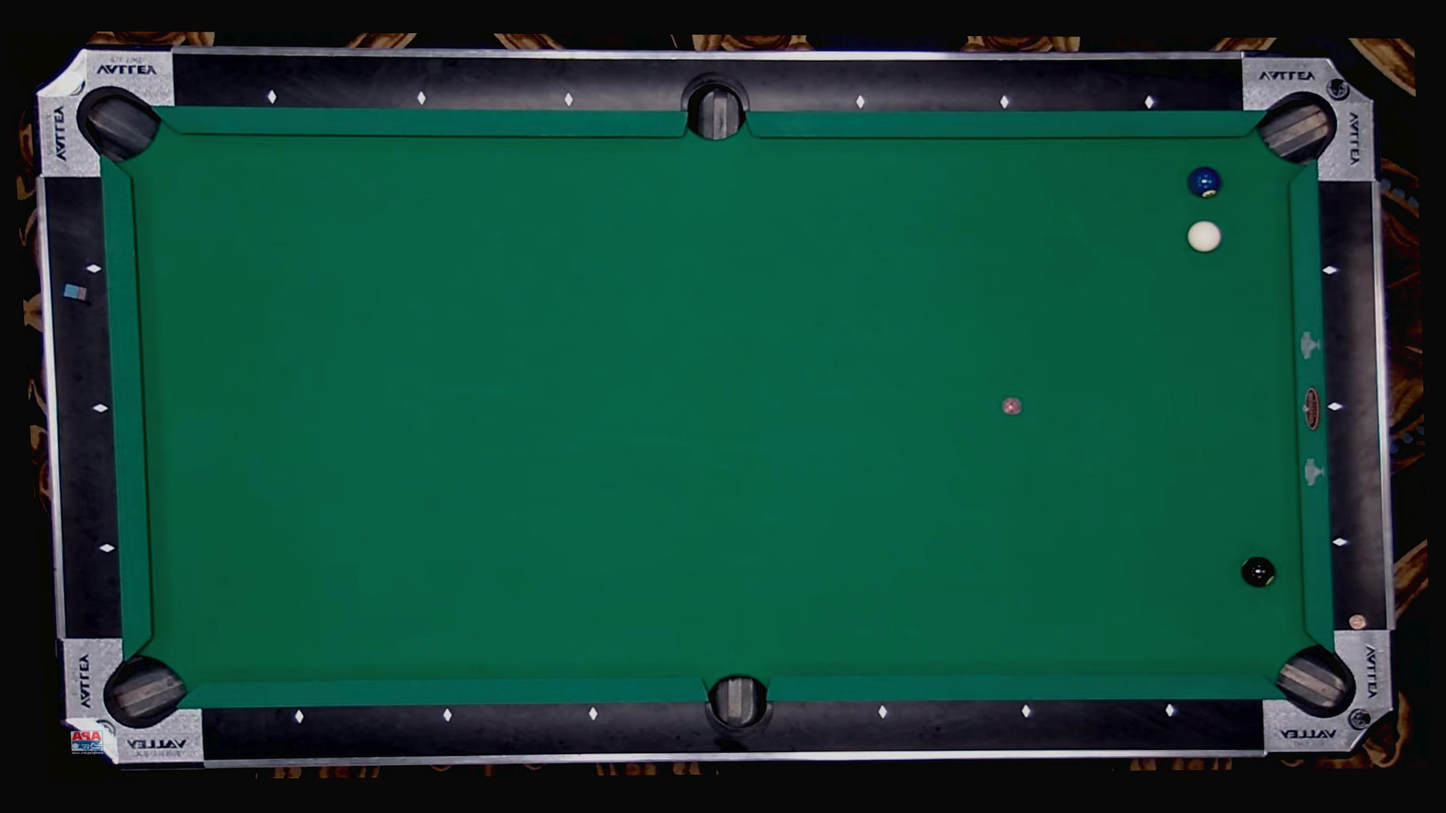Black: (1240, 554, 1277, 589)
Cue: (1187, 219, 1222, 255)
Solid: (1335, 537, 1346, 548), (1329, 400, 1340, 411), (563, 94, 574, 105), (267, 91, 278, 102), (88, 264, 99, 275), (443, 709, 454, 720), (1143, 97, 1154, 107), (855, 97, 865, 108), (417, 93, 427, 104), (95, 403, 106, 413), (101, 543, 112, 553), (295, 712, 305, 723), (589, 708, 600, 718), (878, 707, 888, 718), (1165, 705, 1175, 716), (1324, 266, 1334, 276), (1000, 97, 1010, 107), (1021, 707, 1031, 717)
Striped: (1186, 165, 1223, 200)
